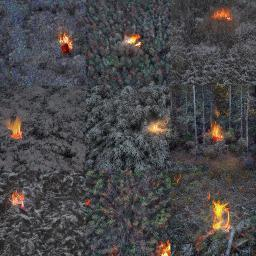Small fire: (197, 188, 244, 241), (1, 111, 34, 155), (47, 24, 81, 60), (2, 180, 36, 215), (204, 2, 246, 30), (201, 116, 231, 151), (117, 26, 156, 51), (143, 114, 172, 137), (149, 236, 182, 256)
